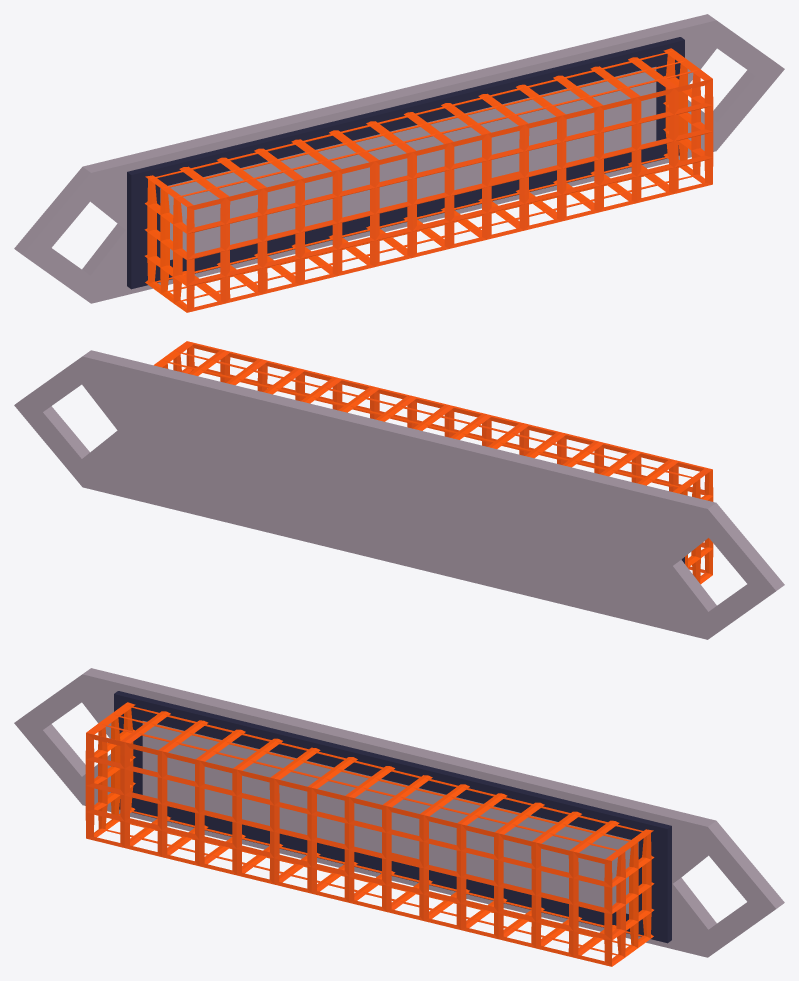
Rendered from fence_wall.glb.
The picture shows the model from 3 angles, top to bottom: view 1: azimuth 30°, elevation 25°; view 2: azimuth 150°, elevation 25°; view 3: azimuth 330°, elevation 25°; orthographic projection.
Parts seen in each view (by area): view 1: plate; view 2: plate; view 3: plate.
Part boxes in pixels (x1,y1,x2,y2): plate: [14, 14, 784, 312]; plate: [14, 341, 784, 639]; plate: [14, 668, 784, 966].
Bounding box in the file's own units: 0.2438 × 0.04 × 0.0304.
Materials: 1 (1 with a texture image).
